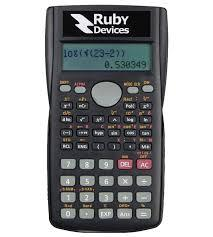Calculator: (40, 0, 177, 237)
